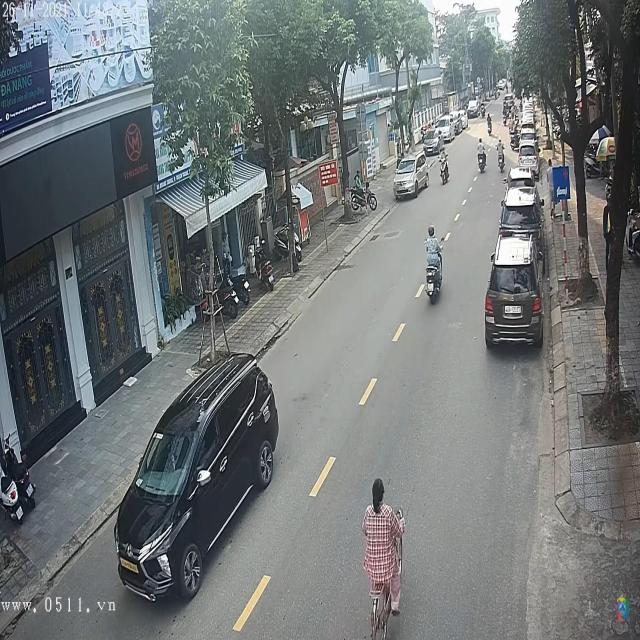bus: (114, 359, 279, 605)
car: (486, 242, 542, 348), (500, 187, 544, 238), (393, 158, 430, 202), (424, 128, 444, 154), (518, 148, 537, 166)
motorcycle: (426, 267, 444, 301), (437, 157, 451, 185), (476, 147, 489, 174)
